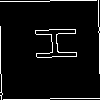H: (24, 25, 77, 62)
